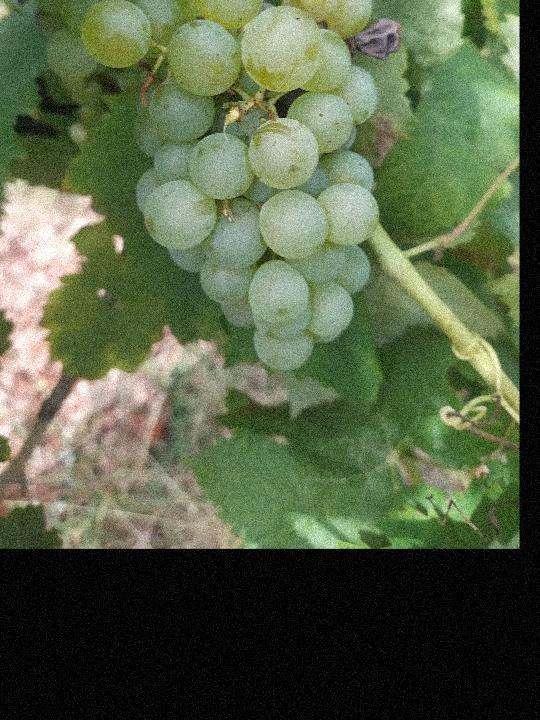grape: (76, 0, 382, 376)
